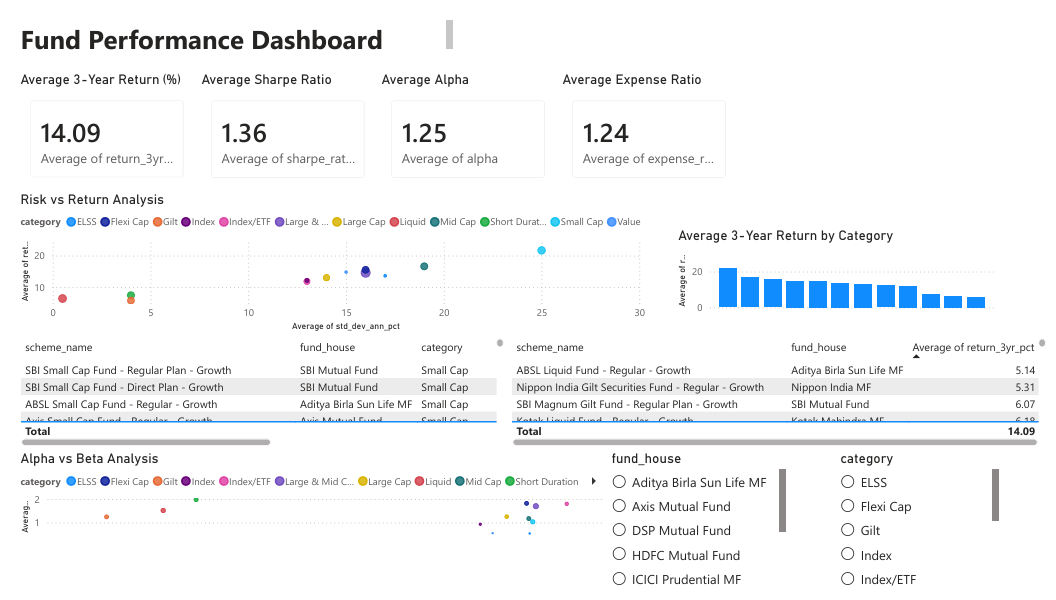

What the dashboard file says about the page in this screenshot:
{"tool":"powerbi","page":{"name":"Fund Performance","canvas":[1280,720],"ordinal":2},"visuals":[{"type":"textbox","box":[0,0,545.2,48.9],"z":0},{"type":"cardVisual","title":"Average 3-Year Return (%)","fields":{"Data":["Avg(07_scheme_performance.return_3yr_pct)"]},"box":[0,67.6,223.7,149.1],"z":1000},{"type":"cardVisual","title":"Average Sharpe Ratio","fields":{"Data":["Avg(07_scheme_performance.sharpe_ratio)"]},"box":[223.7,67.6,224,150],"z":2000},{"type":"cardVisual","title":"Average Alpha","fields":{"Data":["Avg(07_scheme_performance.alpha)"]},"box":[447.4,67.6,224,150],"z":3000},{"type":"cardVisual","title":"Average Expense Ratio","fields":{"Data":["Avg(07_scheme_performance.expense_ratio_pct)"]},"box":[671.1,67.6,224,150],"z":4000},{"type":"scatterChart","title":"Risk vs Return Analysis","fields":{"X":["Avg(07_scheme_performance.std_dev_ann_pct)"],"Y":["Avg(07_scheme_performance.return_3yr_pct)"],"Size":["Avg(07_scheme_performance.aum_crore)"],"Series":["07_scheme_performance.category"]},"box":[0,215.9,783.4,178.4],"z":5000},{"type":"tableEx","fields":{"Values":["07_scheme_performance.scheme_name","07_scheme_performance.fund_house","07_scheme_performance.category","Sum(07_scheme_performance.return_3yr_pct)","Sum(07_scheme_performance.sharpe_ratio)","Sum(07_scheme_performance.alpha)","Sum(07_scheme_performance.expense_ratio_pct)"]},"box":[0,394.4,608.5,142.8],"z":6000},{"type":"tableEx","fields":{"Values":["07_scheme_performance.scheme_name","07_scheme_performance.fund_house","Avg(07_scheme_performance.return_3yr_pct)"]},"box":[608.5,394.4,670.9,142.8],"z":7000},{"type":"clusteredColumnChart","title":"Average 3-Year Return by Category","fields":{"Category":["07_scheme_performance.category"],"Y":["Avg(07_scheme_performance.return_3yr_pct)"]},"box":[813.7,260.5,401.5,114.2],"z":8000},{"type":"scatterChart","title":"Alpha vs Beta Analysis","fields":{"X":["Avg(07_scheme_performance.beta)"],"Y":["Avg(07_scheme_performance.alpha)"],"Size":["Avg(07_scheme_performance.aum_crore)"],"Series":["07_scheme_performance.category"]},"box":[0,537.1,731.6,112.4],"z":9000},{"type":"listSlicer","fields":{"Values":["07_scheme_performance.fund_house"]},"box":[731.6,537.1,226.6,182],"z":10000},{"type":"listSlicer","fields":{"Values":["07_scheme_performance.category"]},"box":[1015.3,537.1,205.2,182],"z":11000}]}

Visuals, with their boxes in screenshot pixels (x1, y1, x2, y2), scaled from the page's 1280x720 canvas onto the 1056x600 screenshot:
textbox: 0:0:450:41
"Average 3-Year Return (%)" cardVisual: 0:56:185:181
"Average Sharpe Ratio" cardVisual: 185:56:369:181
"Average Alpha" cardVisual: 369:56:554:181
"Average Expense Ratio" cardVisual: 554:56:738:181
"Risk vs Return Analysis" scatterChart: 0:180:646:329
tableEx - 07_scheme_performance.scheme_name x 07_scheme_performance.fund_house: 0:329:502:448
tableEx - 07_scheme_performance.scheme_name x 07_scheme_performance.fund_house: 502:329:1055:448
"Average 3-Year Return by Category" clusteredColumnChart: 671:217:1003:312
"Alpha vs Beta Analysis" scatterChart: 0:448:604:541
listSlicer - 07_scheme_performance.fund_house: 604:448:791:599
listSlicer - 07_scheme_performance.category: 838:448:1007:599
